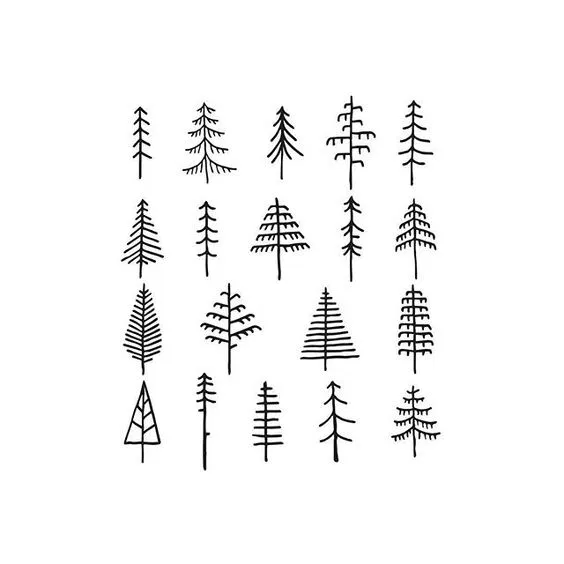tree: (190, 274, 269, 378), (290, 284, 372, 377), (379, 282, 454, 374), (243, 196, 320, 282), (247, 99, 317, 188), (117, 282, 178, 382), (321, 92, 380, 194), (111, 192, 174, 280), (385, 378, 448, 464), (392, 97, 442, 198), (240, 374, 291, 471), (386, 195, 440, 285), (183, 99, 236, 182), (311, 375, 360, 463), (336, 191, 374, 289), (190, 197, 232, 280), (119, 377, 160, 461), (124, 103, 164, 189), (185, 365, 217, 469), (90, 235, 98, 236)
